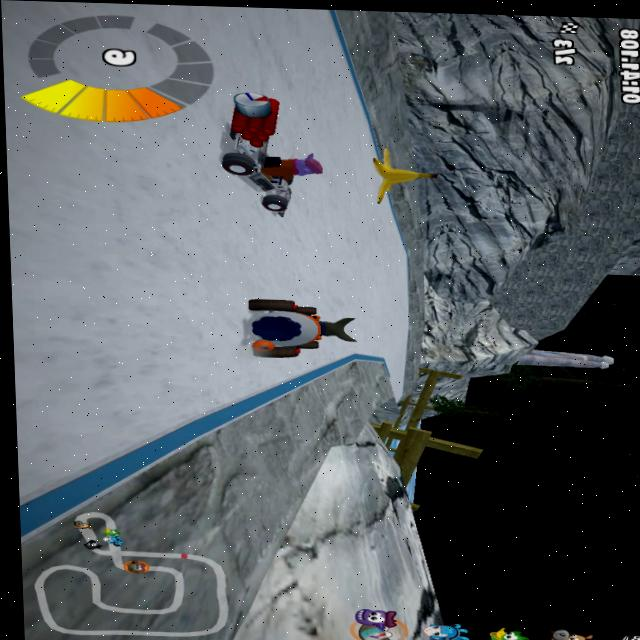enemy_kart: (223, 92, 317, 218)
obstacle: (359, 147, 441, 207)
player_kart: (225, 296, 362, 360)
track: (0, 1, 206, 217), (13, 214, 362, 296), (11, 287, 201, 418), (194, 6, 340, 93), (355, 210, 414, 327), (321, 92, 356, 222), (380, 327, 417, 398), (198, 356, 271, 391), (193, 286, 230, 351)
